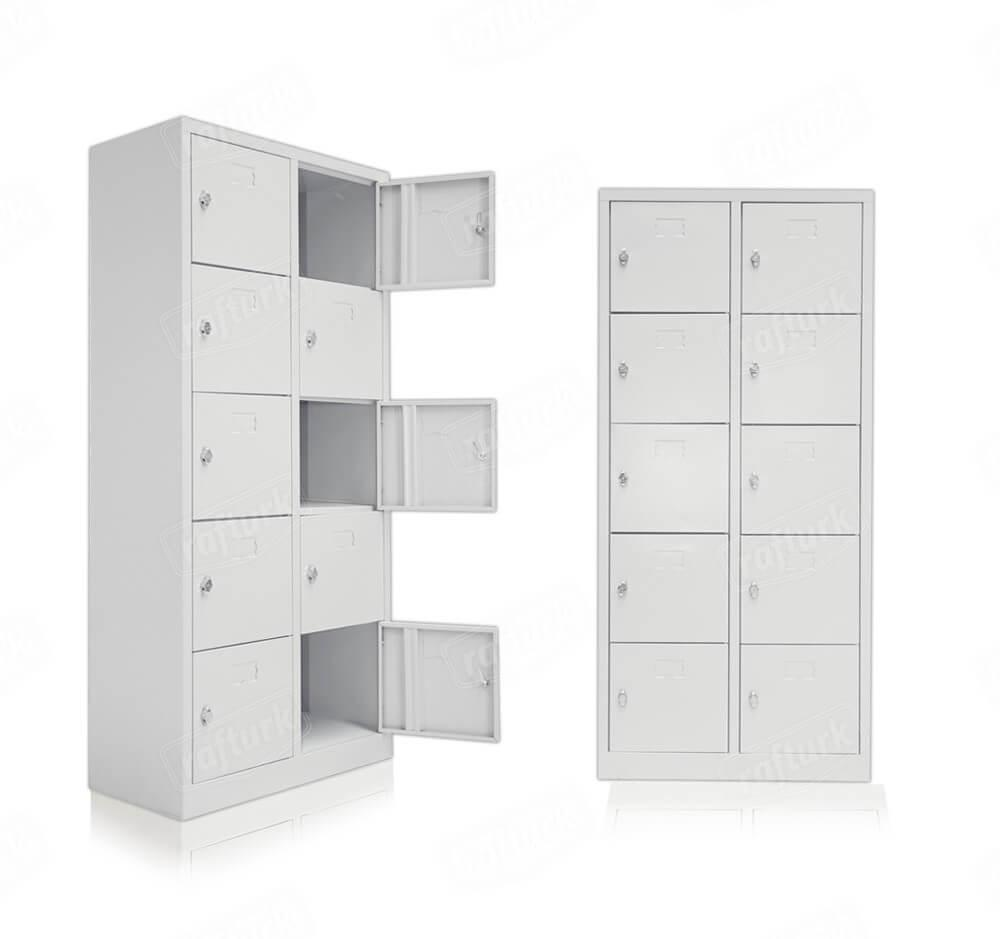cabinet_door: (386, 623, 501, 743), (614, 202, 732, 314), (742, 205, 860, 314), (613, 316, 730, 425), (611, 647, 729, 755), (383, 401, 496, 513), (615, 428, 732, 534), (614, 536, 731, 641), (740, 315, 857, 420), (384, 179, 497, 286), (740, 427, 856, 530), (741, 536, 857, 639), (195, 648, 293, 766), (745, 645, 859, 746), (191, 520, 291, 635), (193, 271, 290, 388), (194, 397, 290, 509), (299, 508, 390, 620), (195, 154, 291, 258), (298, 288, 380, 398)
handle: (196, 699, 222, 736), (196, 441, 222, 476), (197, 311, 222, 346), (746, 246, 770, 279), (196, 186, 219, 220), (740, 686, 766, 716), (198, 569, 221, 602), (610, 687, 636, 716), (611, 244, 637, 273), (304, 558, 326, 592), (303, 325, 325, 358), (746, 464, 767, 498), (612, 571, 633, 605), (614, 463, 634, 496), (746, 574, 767, 604), (614, 355, 634, 386), (745, 356, 766, 385)
